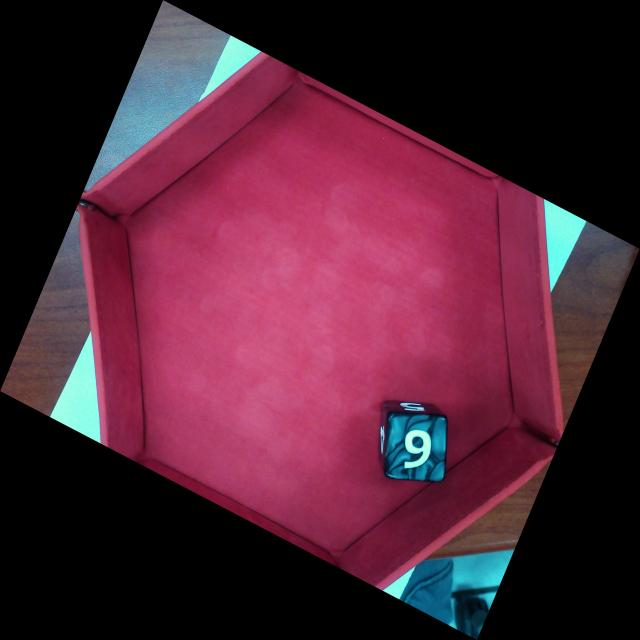dice: (384, 411, 448, 482)
